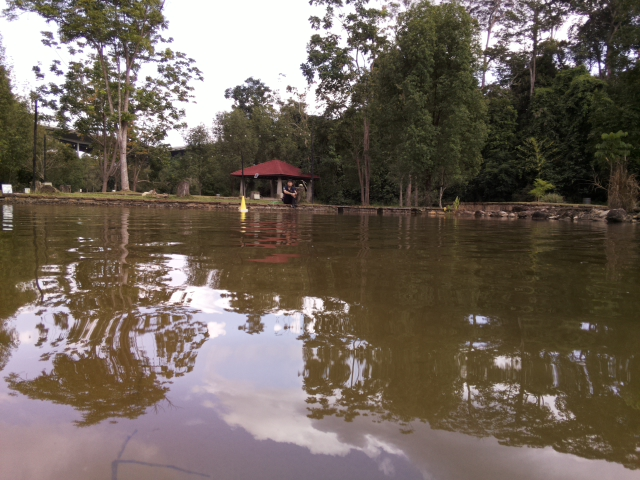checkpoint: (236, 195, 249, 213)
